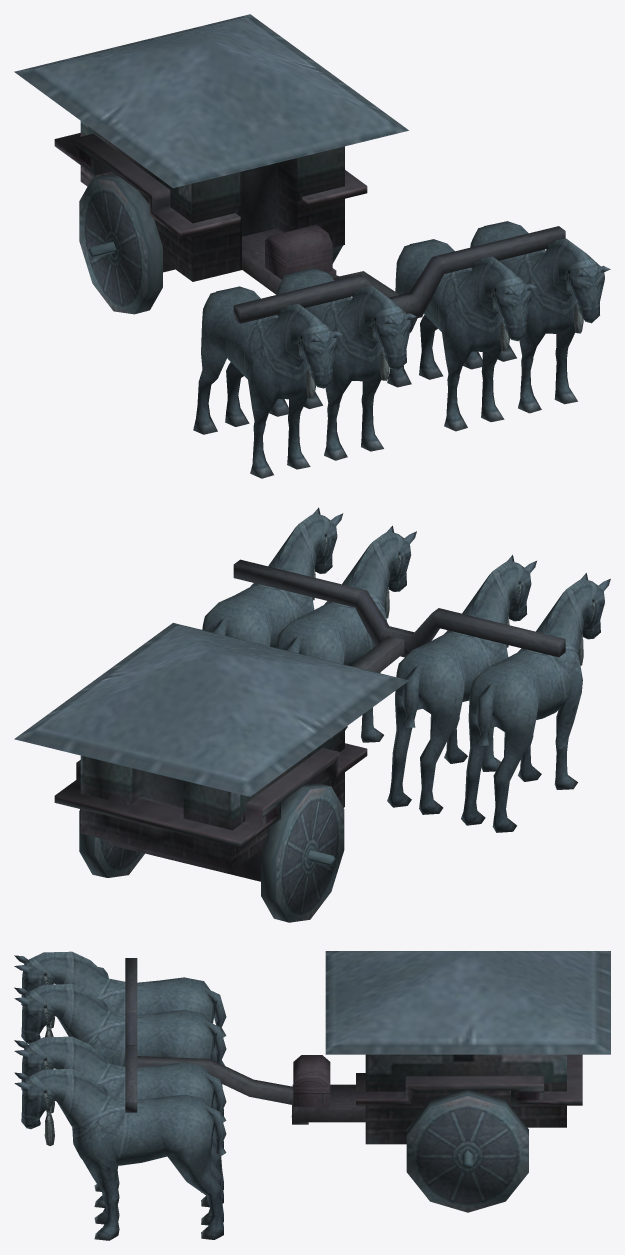
File: Stage_DiXiaCheng_BinMaYong_12.FBX
3 views of the same model, one above another, from view 1: azimuth 30°, elevation 25°; view 2: azimuth 150°, elevation 25°; view 3: azimuth 270°, elevation 25° (orthographic). The views are drawn at different scales.
Parts seen in each view (by area): view 1: Stage_DiXiaCheng_BinMaYong_12; view 2: Stage_DiXiaCheng_BinMaYong_12; view 3: Stage_DiXiaCheng_BinMaYong_12.
Boxes of the visible parts, x1=… form: Stage_DiXiaCheng_BinMaYong_12: x1=14, y1=14, x2=610, y2=478; Stage_DiXiaCheng_BinMaYong_12: x1=14, y1=507, x2=610, y2=922; Stage_DiXiaCheng_BinMaYong_12: x1=14, y1=951, x2=610, y2=1240.
Size of the model in its own units: 365 by 254 by 628.
